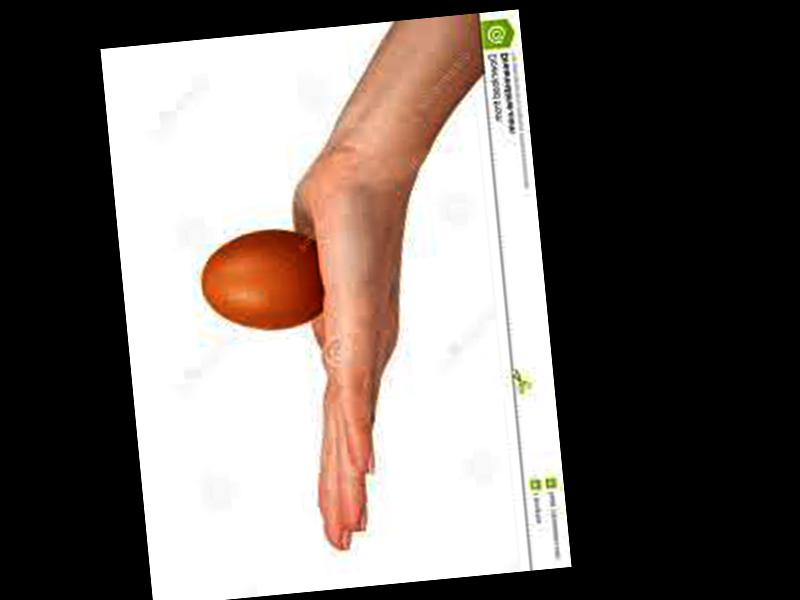Eggs: (197, 227, 329, 336)
